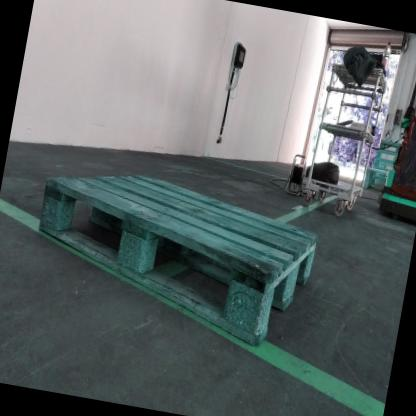BoxFace: (36, 166, 319, 350)
